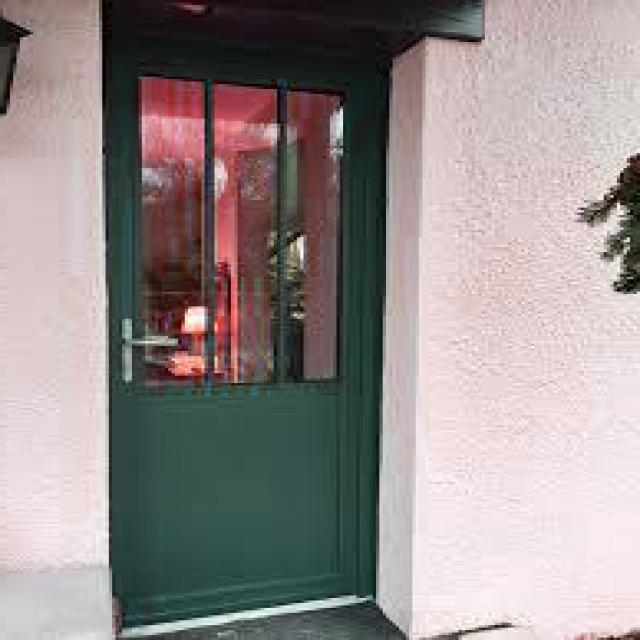door: (106, 50, 383, 627)
